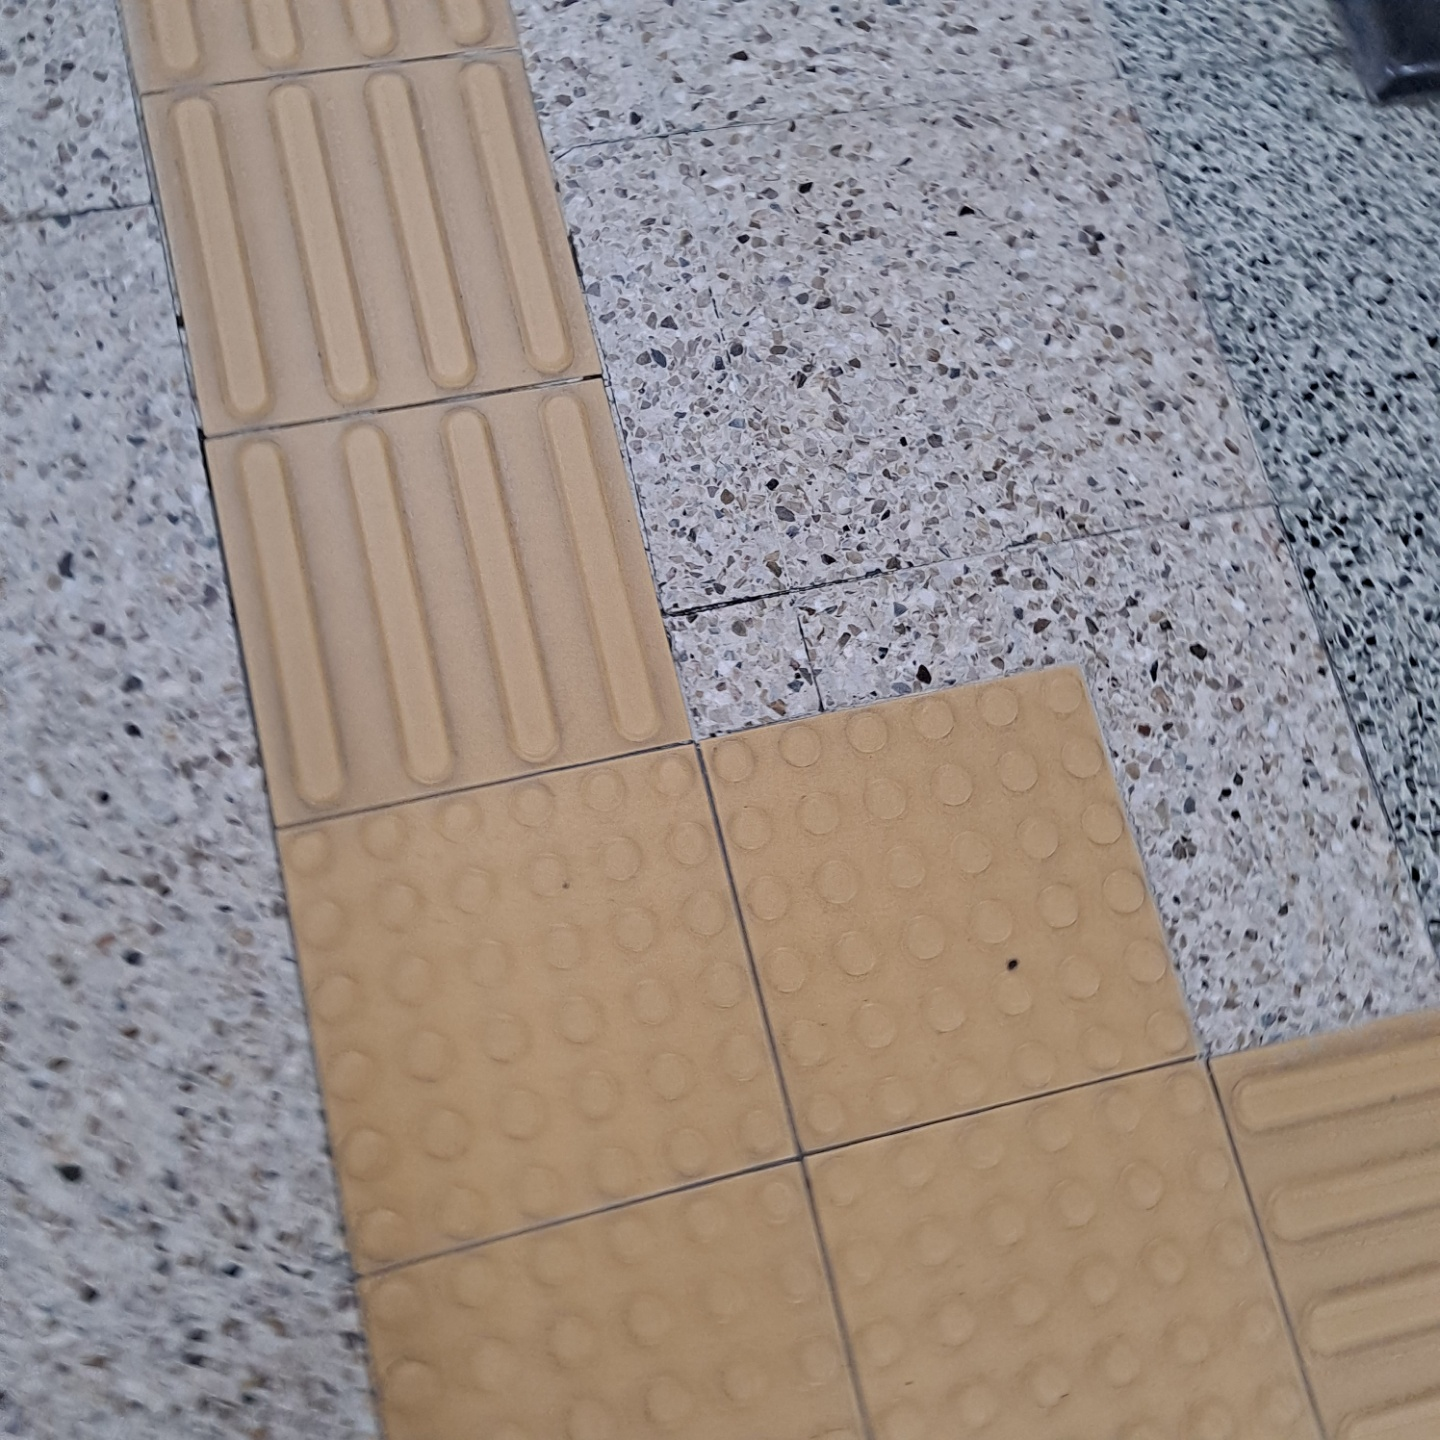guideBlock: (212, 425, 723, 793), (152, 49, 568, 386), (1255, 1042, 1440, 1440)
warningBlock: (301, 787, 744, 1192), (727, 679, 1124, 1088), (855, 1093, 1273, 1440), (352, 1168, 857, 1440)
